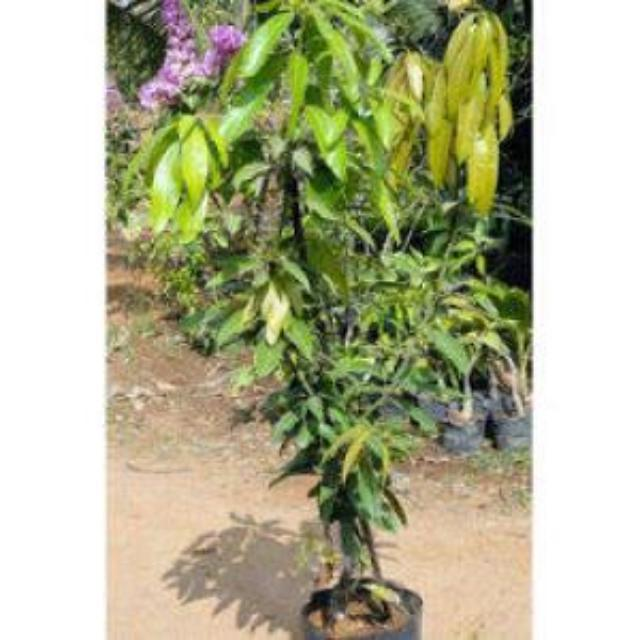tree: (126, 6, 534, 632)
